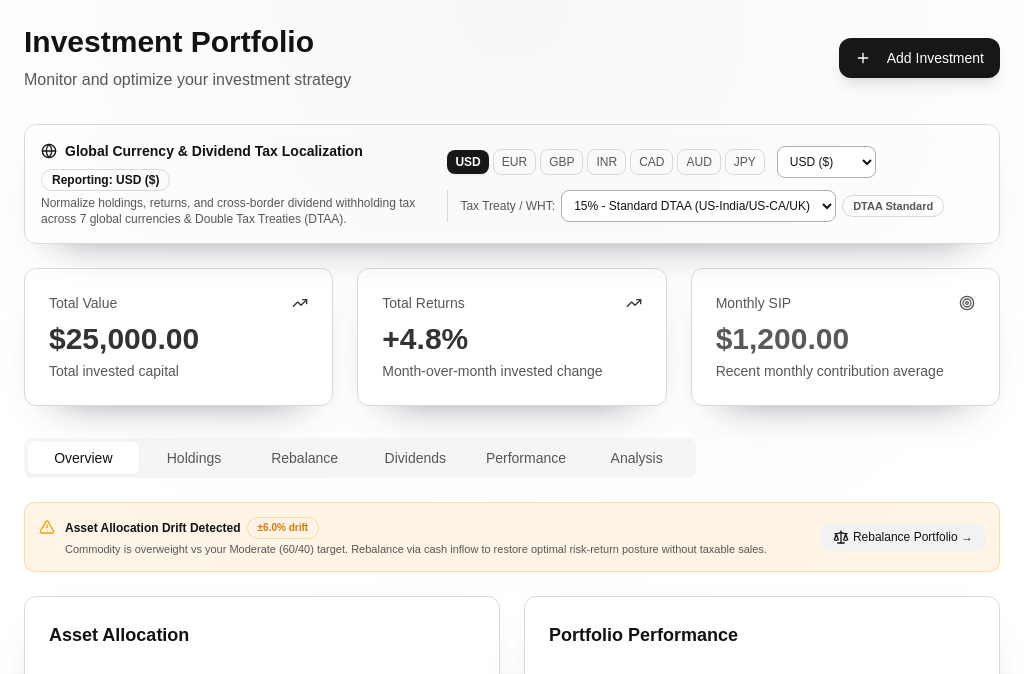
Test: Portfolio Page › renders asset allocation drift alert in Overview and navigates to Rebalance tab
The image size is (1024, 674).
Check: the text "$25,000.00" is shown, box [49,322,199,355]
Check: the element with test id "portfolio-drift-alert" is shown, box [24,502,1000,572]
Click the button with test id "review-drift-btn": (903, 537) [821,523,985,551]
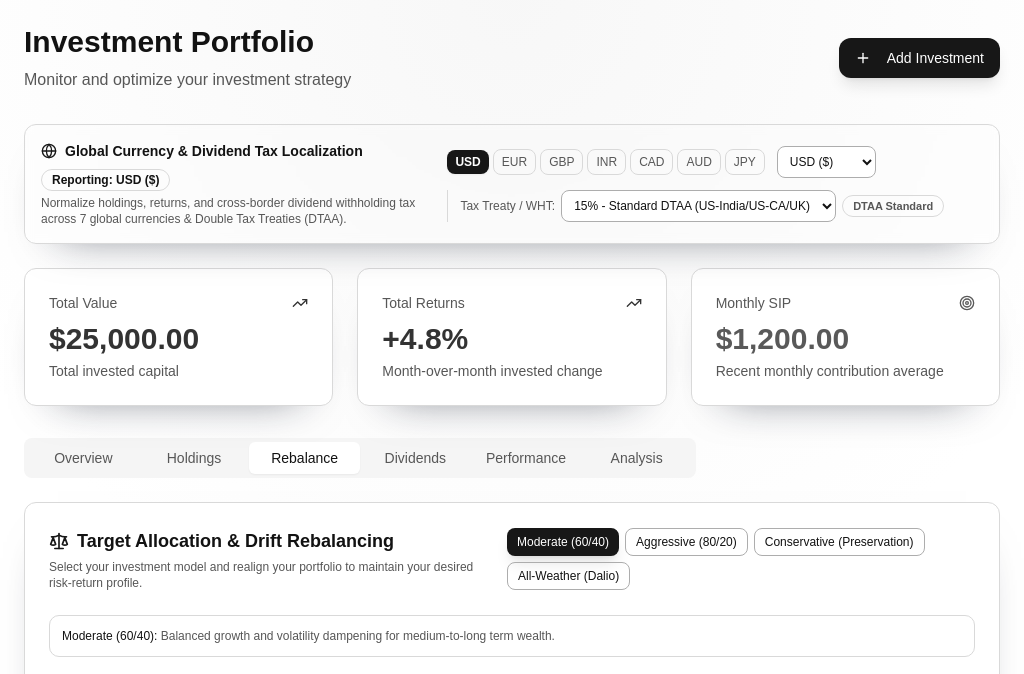
Check: the heading "Target Allocation & Drift Rebalancing" is shown, box [77,527,394,555]
